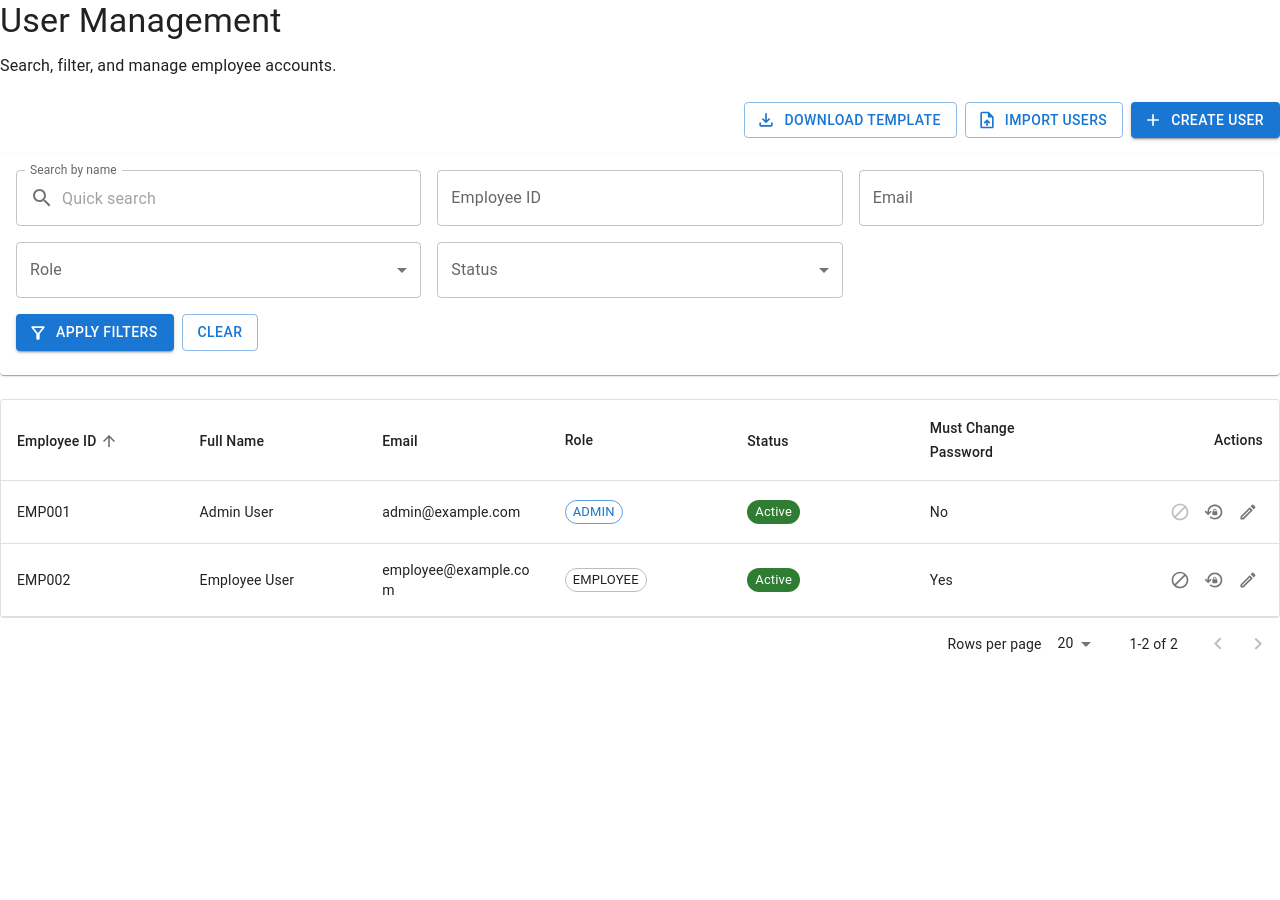
it: UserListPage › resets password after confirmation and password entry
Check: the text "Employee User" is shown, box [200, 572, 294, 588]
Click the button named "Reset password for Employee User": coordinates (1214, 580) [1199, 565, 1229, 595]
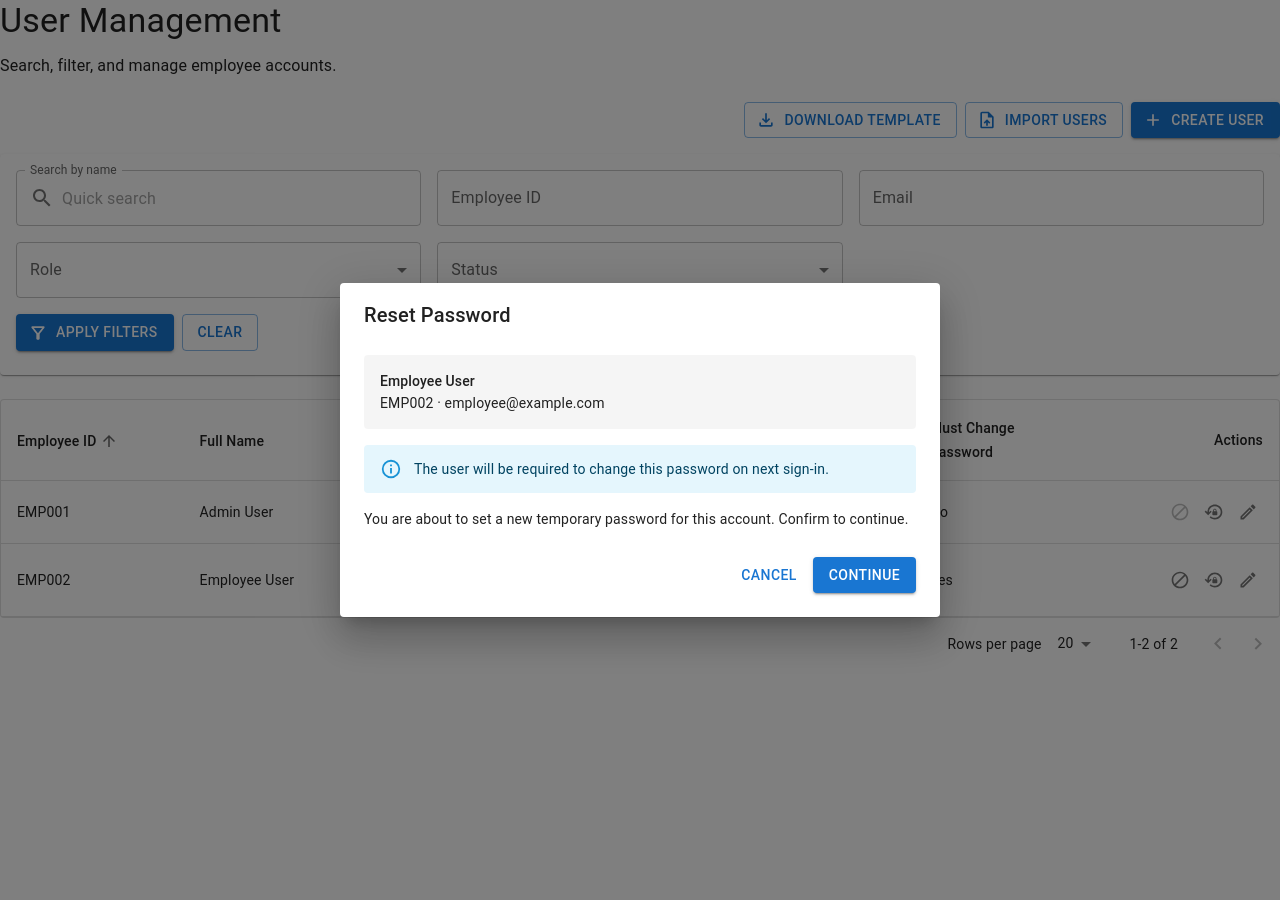
Click the button "Continue": coordinates (864, 575) [813, 557, 916, 593]
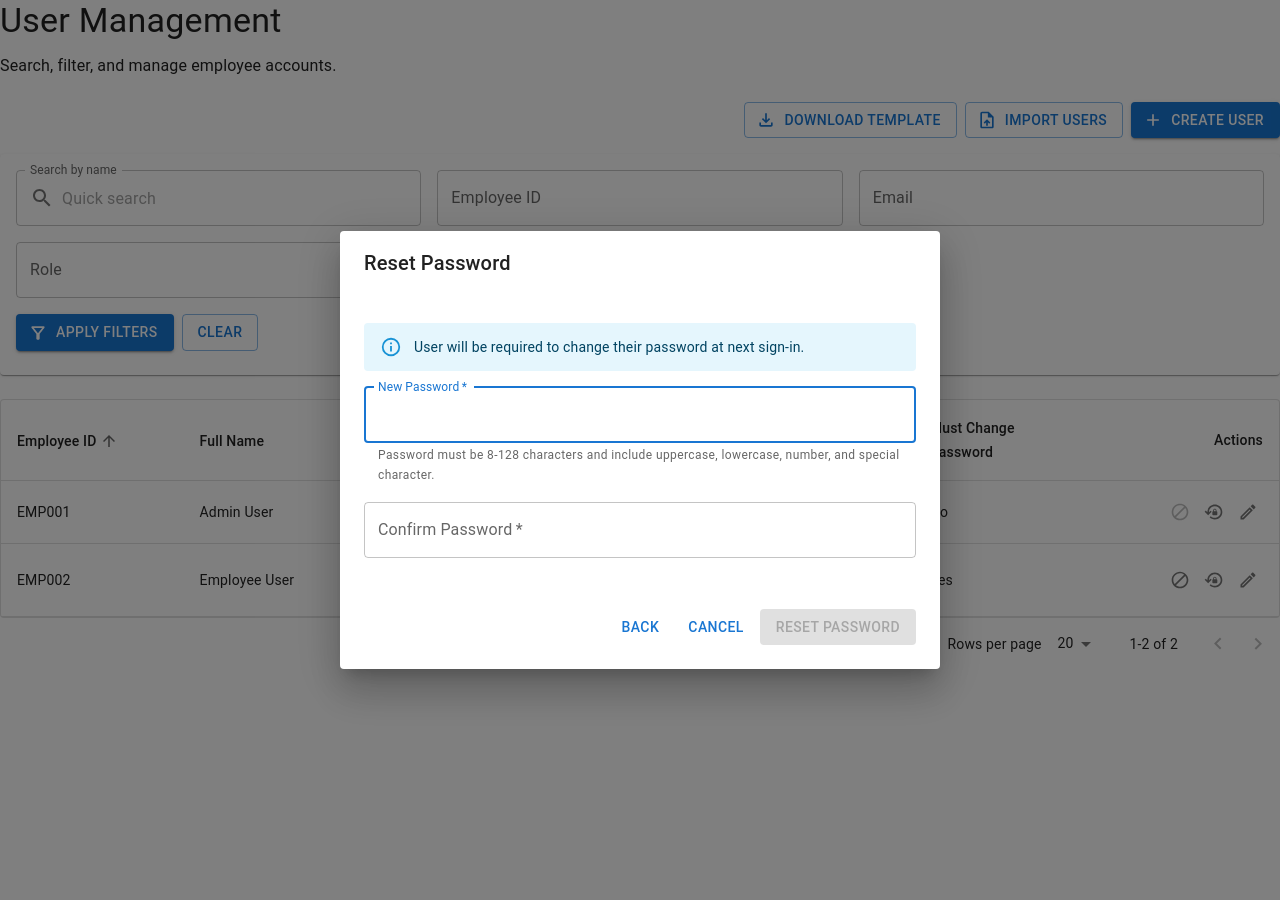
In the password field labelled "New Password *": coordinates (640, 415) [364, 387, 916, 443], type "Temp@12345"
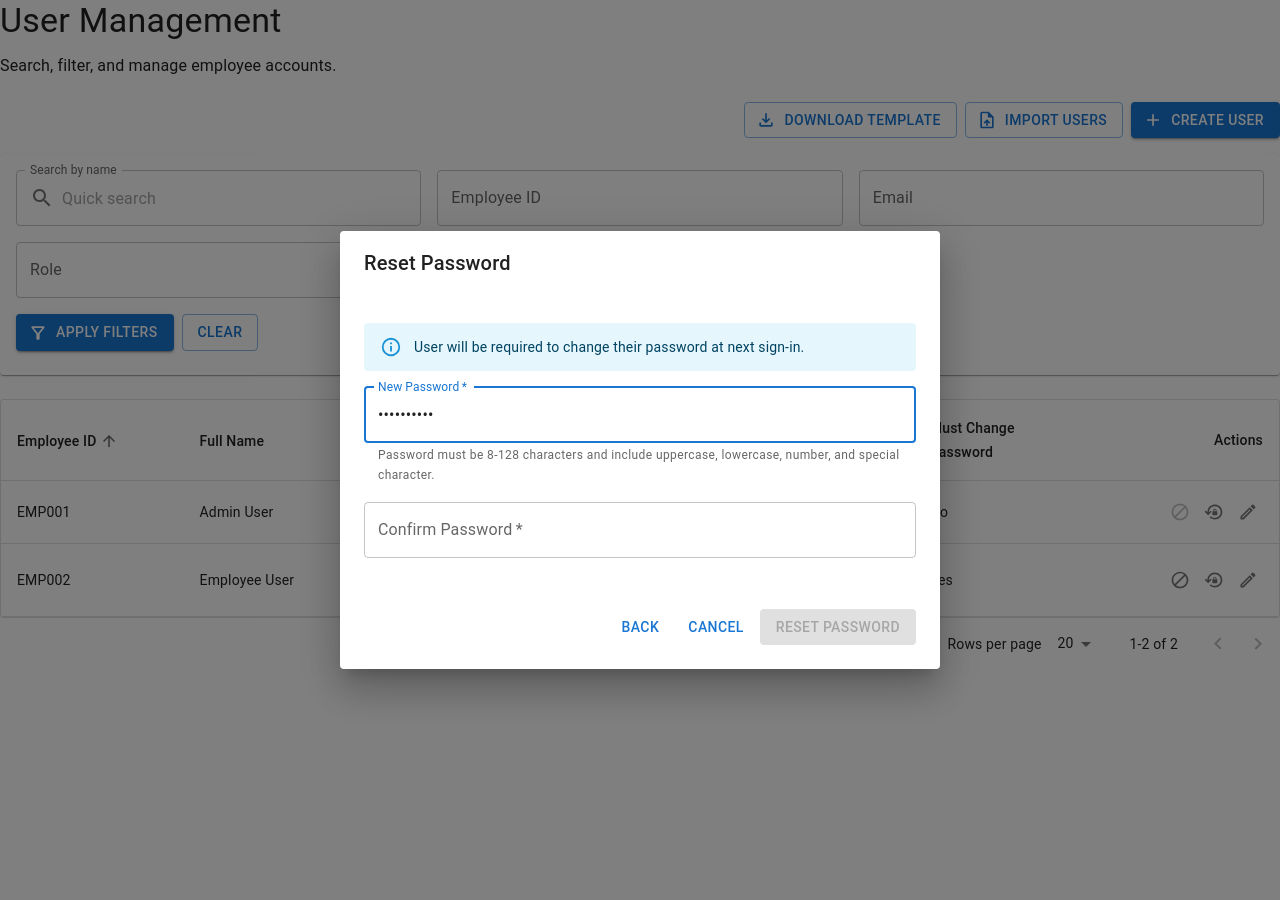
In the password field labelled "Confirm Password *": coordinates (640, 530) [364, 502, 916, 558], type "Temp@12345"
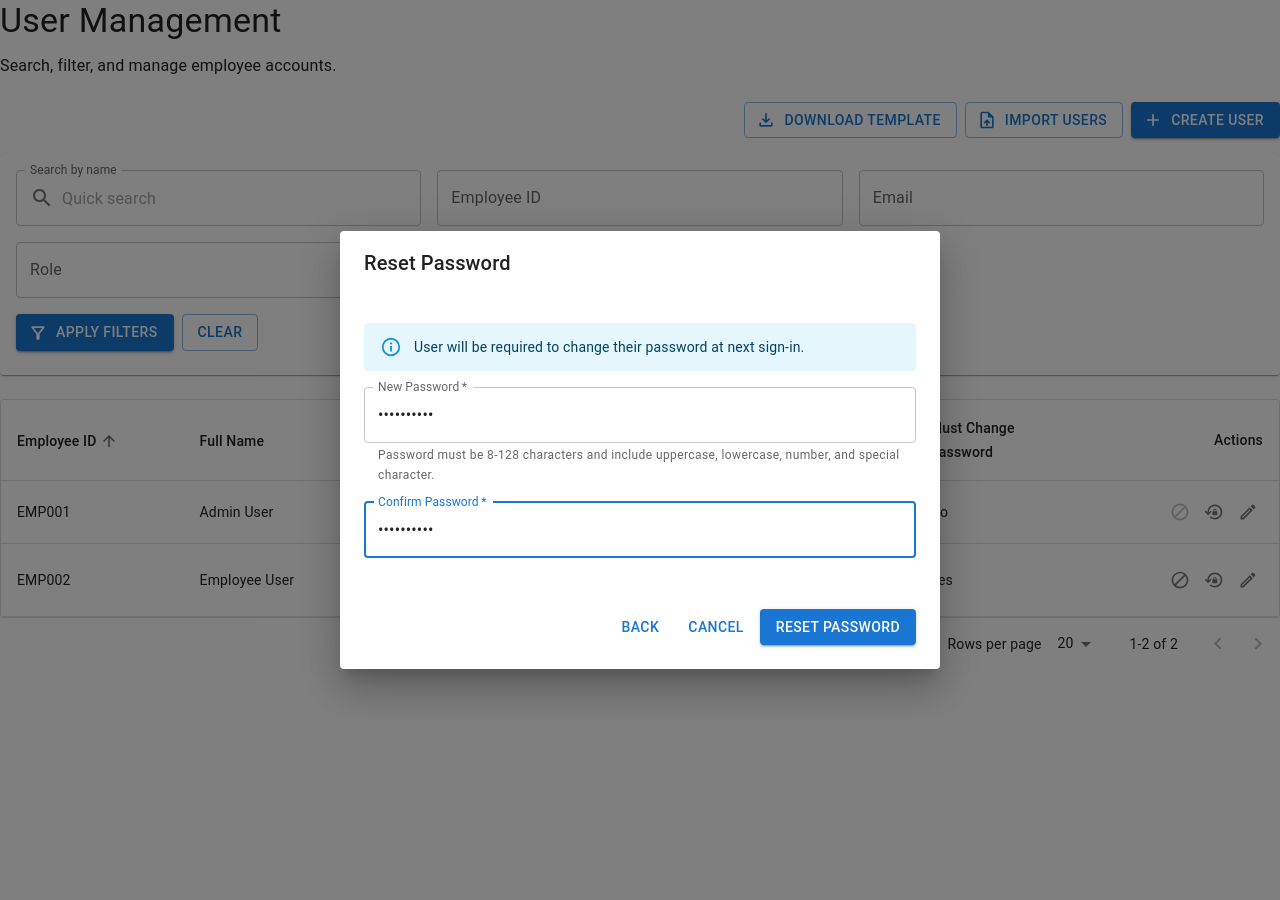
Click the button "Reset password": coordinates (838, 627) [760, 609, 916, 645]
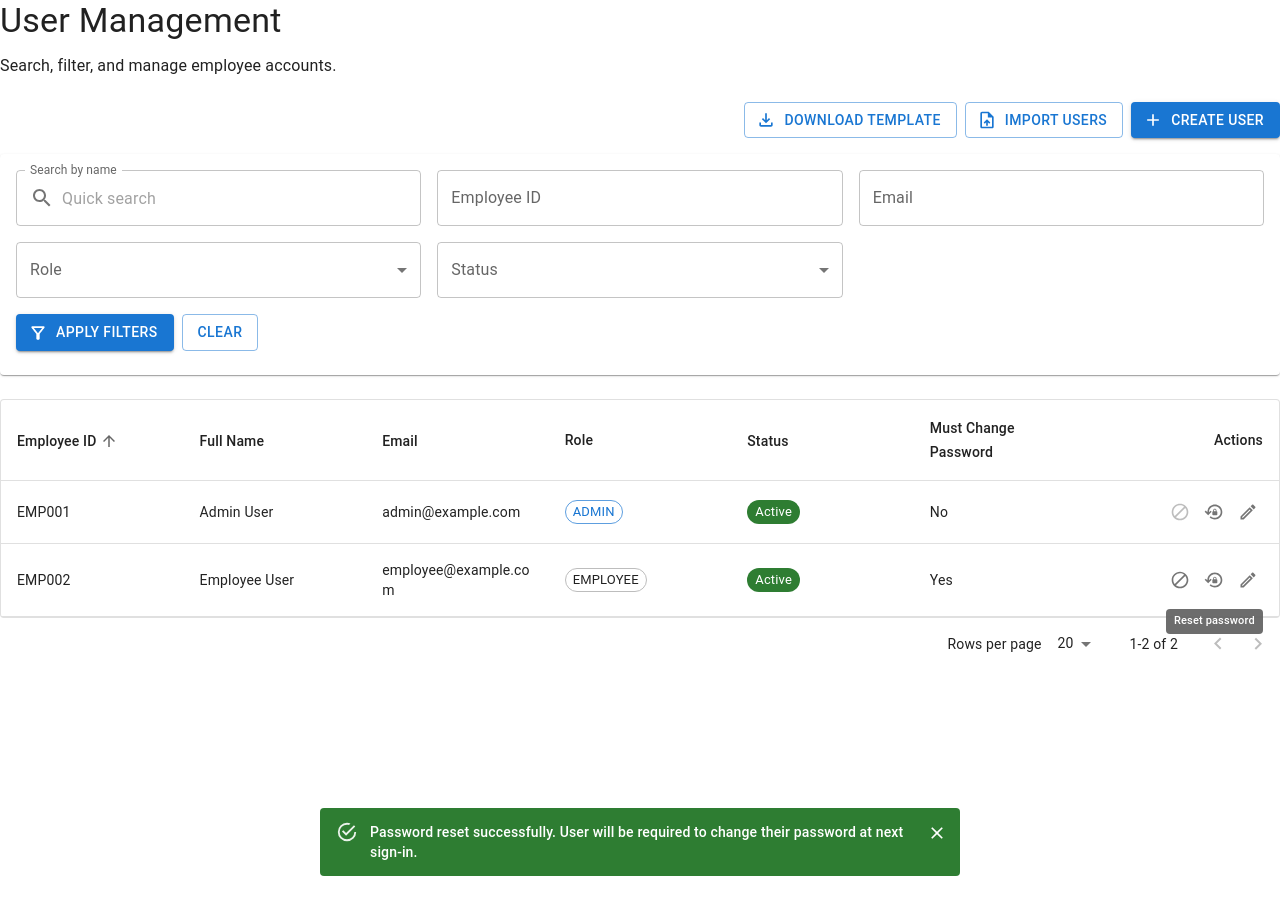
Check: the text "Password reset successfully. User will be required to change their password at next sign-in." is shown, box [370, 824, 903, 860]
